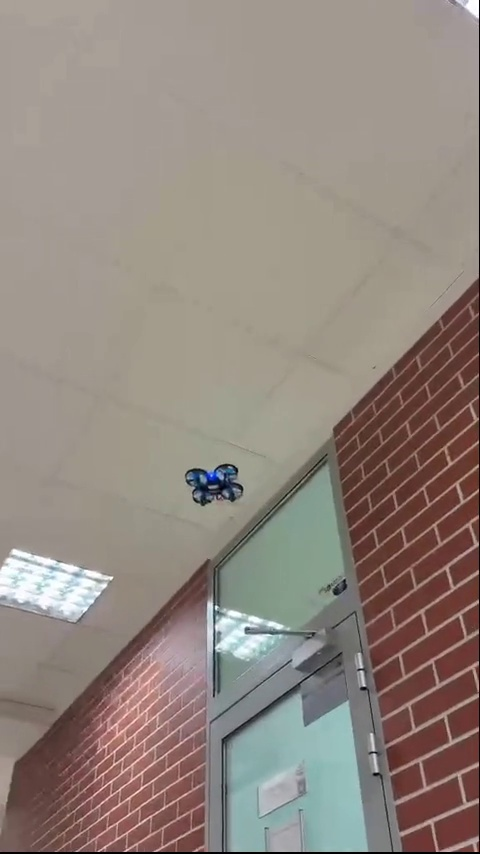drone: (186, 461, 248, 509)
